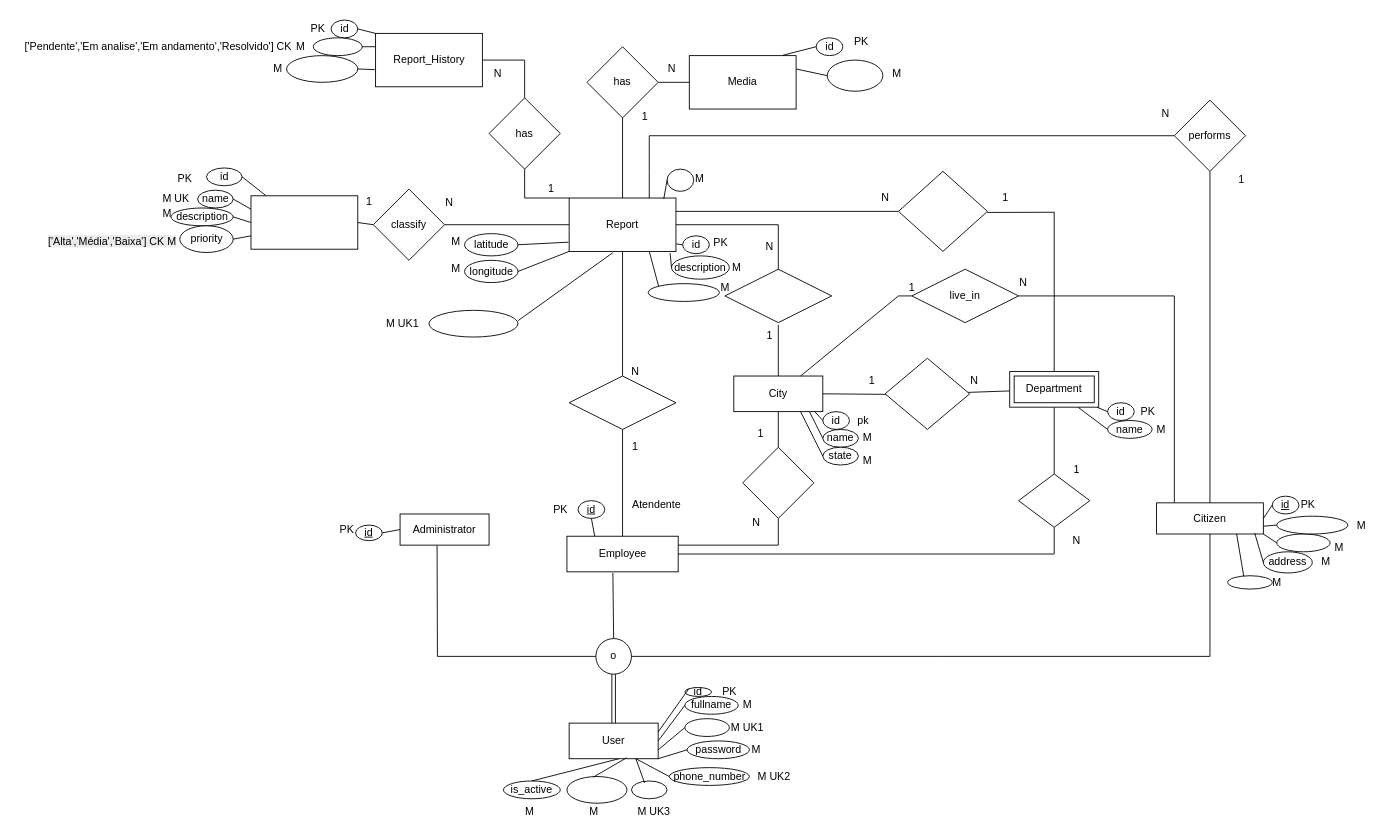
Image size: 1390x840. Some labels were removed from this diagram. Each missing label, with the box of its shape:
CEP: (1227, 575, 1272, 589)
change_date: (286, 55, 358, 82)
Classification: (250, 195, 358, 249)
cpf: (631, 780, 667, 799)
created_at: (566, 776, 627, 803)
creation_date: (647, 283, 719, 301)
email: (684, 718, 729, 736)
file_path: (826, 59, 883, 91)
linked_to: (898, 170, 987, 251)
located_in: (884, 357, 970, 429)
manages: (568, 375, 676, 429)
neighborhood: (1276, 515, 1348, 534)
number: (1276, 533, 1330, 552)
occurs_in: (724, 268, 832, 323)
protocol_number: (428, 309, 518, 337)
status: (312, 37, 362, 56)
type: (666, 168, 694, 191)
work _on: (1018, 473, 1090, 527)
work_in: (742, 446, 814, 518)
